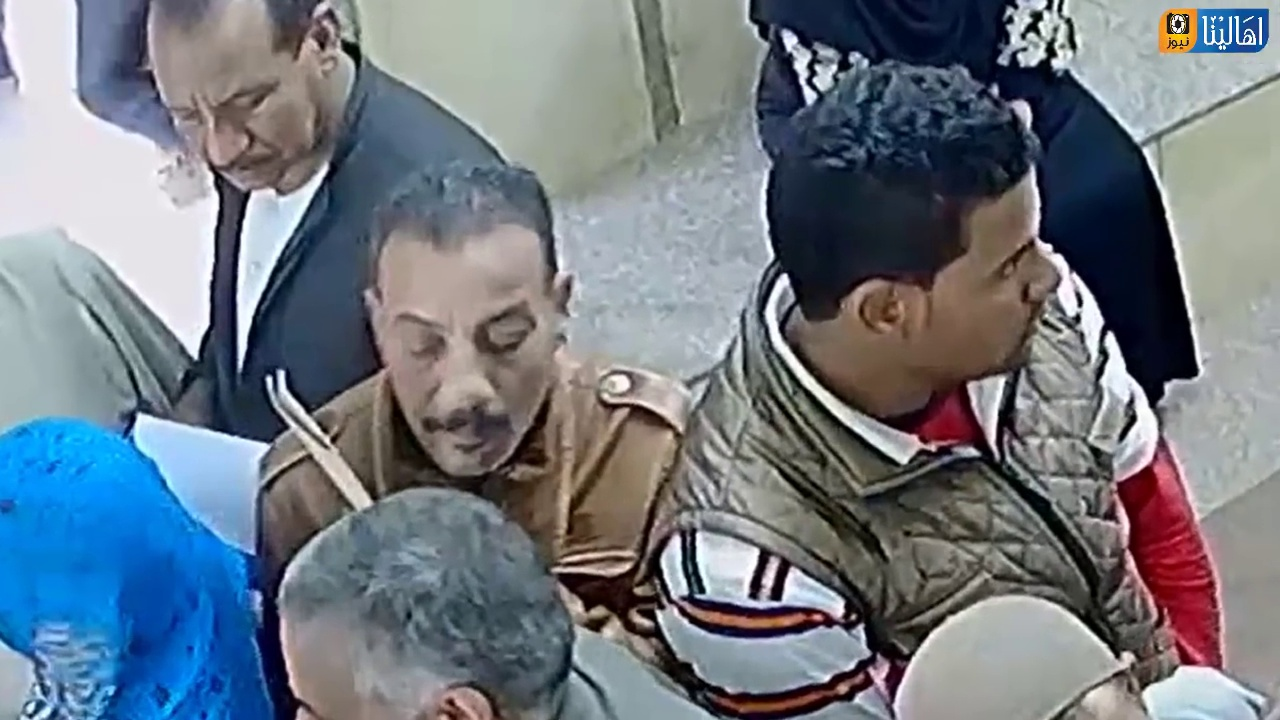face: (377, 259, 551, 475), (928, 192, 1075, 379), (157, 10, 306, 188)
